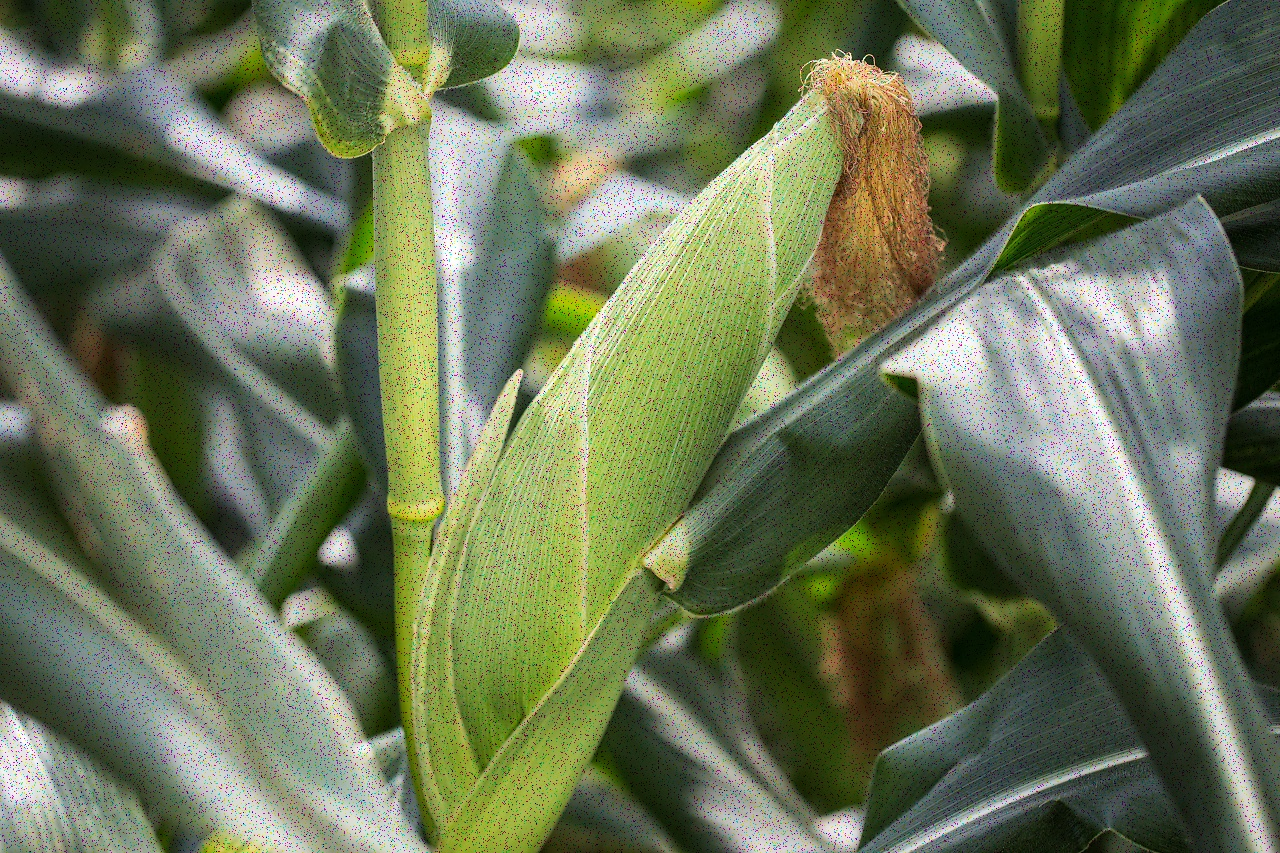corn_plant: (408, 33, 947, 824)
